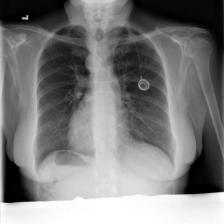normal: (30, 18, 179, 180)
